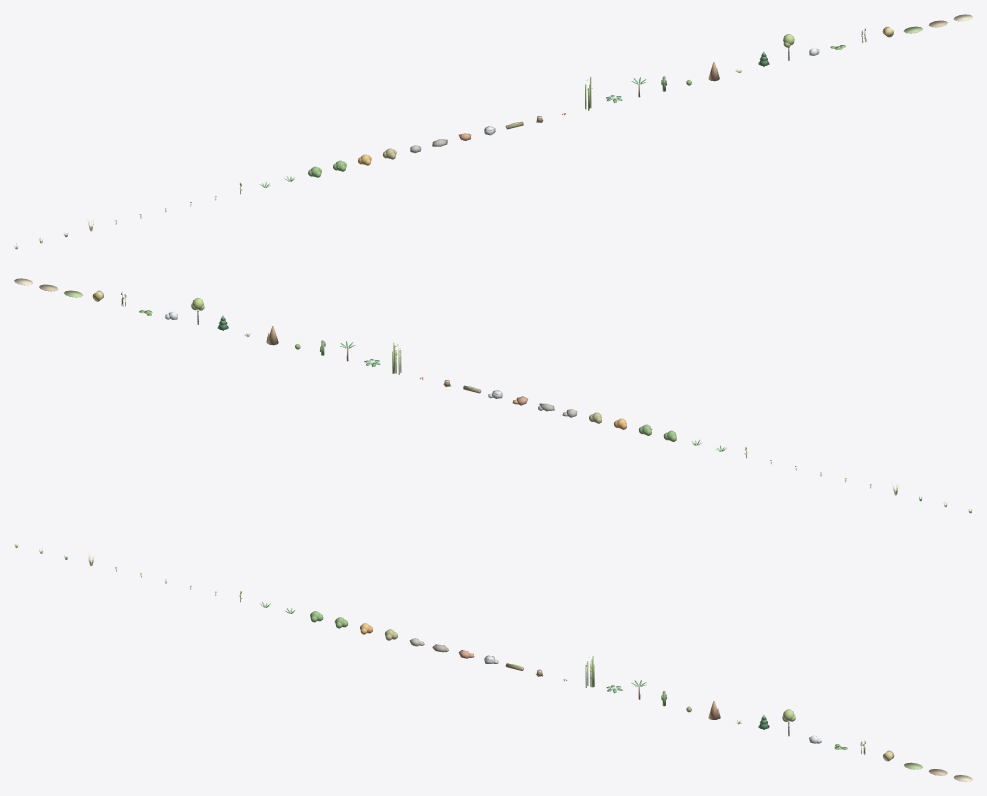
File: habitat-kit.glb
3 views of the same model, one above another, from view 1: azimuth 30°, elevation 25°; view 2: azimuth 150°, elevation 25°; view 3: azimuth 330°, elevation 25° (orthographic).
Bounding box in the file's own units: 84.53 × 2.74 × 1.29.
